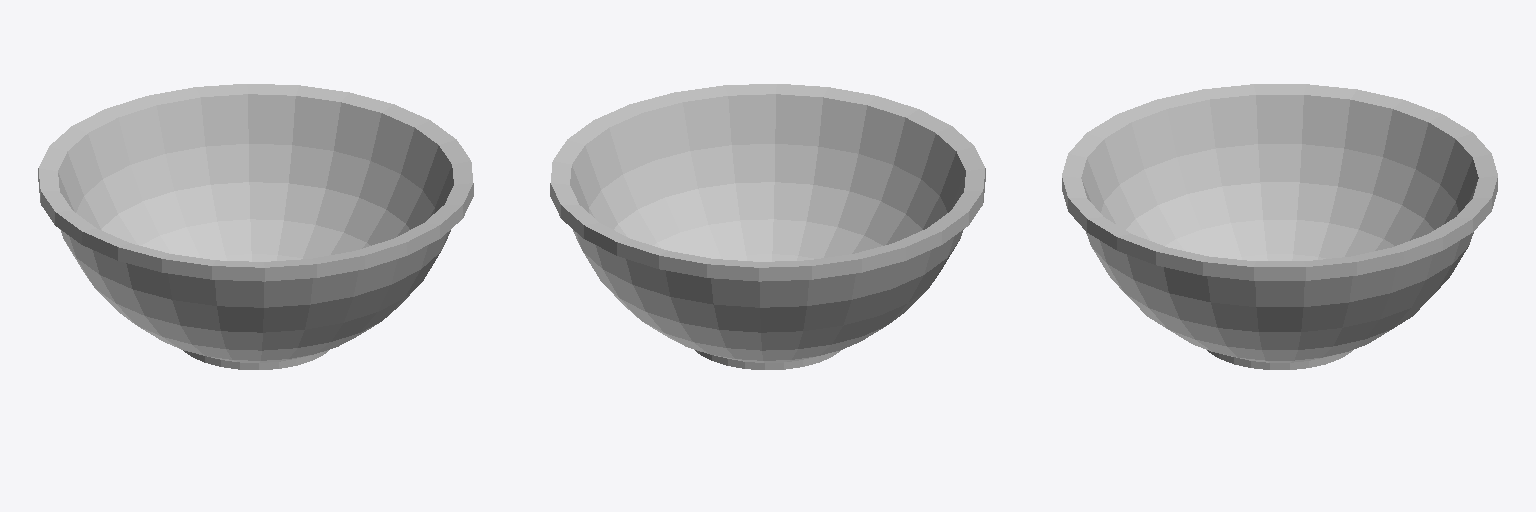
File: bowl.obj
3 views of the same model, side by side, from view 1: azimuth 30°, elevation 25°; view 2: azimuth 150°, elevation 25°; view 3: azimuth 270°, elevation 25° (orthographic).
Visible parts, largest first — view 1: Sphere; view 2: Sphere; view 3: Sphere.
Boxes of the visible parts, x1=… form: Sphere: x1=38, y1=84, x2=473, y2=369; Sphere: x1=550, y1=84, x2=985, y2=369; Sphere: x1=1062, y1=84, x2=1497, y2=369.
Bounding box in the file's own units: 0.1713 × 0.0701 × 0.1726.